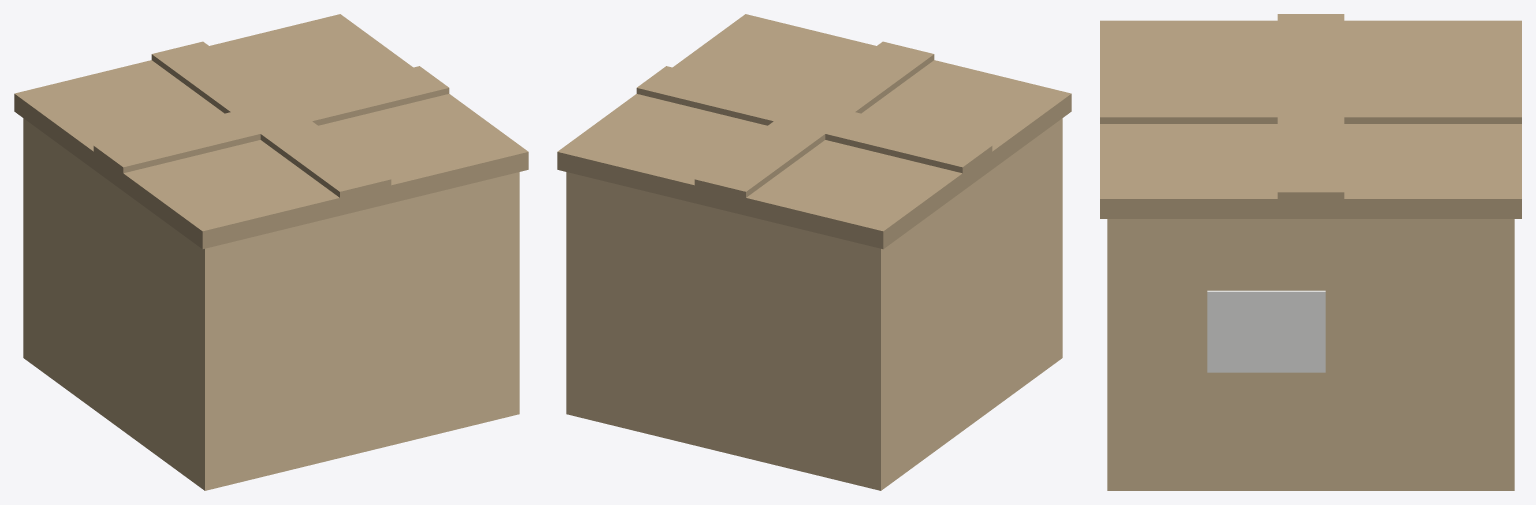
The model's file is package.glb.
3 views of the same model, side by side, from view 1: azimuth 30°, elevation 25°; view 2: azimuth 150°, elevation 25°; view 3: azimuth 270°, elevation 25° (orthographic). The views are drawn at different scales.
Visible parts, largest first — view 1: PK_box, PK_flap_a, PK_tape_x, PK_tape_y; view 2: PK_box, PK_flap_a, PK_tape_x, PK_tape_y; view 3: PK_box, PK_flap_a, PK_tape_y, PK_tape_x, PK_label.
Boxes of the visible parts, box(x1,y1,x2,y2) form: PK_box: box(23, 118, 519, 490); PK_flap_a: box(14, 14, 528, 249); PK_tape_x: box(93, 66, 449, 173); PK_tape_y: box(151, 41, 391, 203); PK_box: box(566, 118, 1062, 490); PK_flap_a: box(557, 14, 1071, 249); PK_tape_x: box(636, 66, 992, 178); PK_tape_y: box(694, 41, 934, 203); PK_box: box(1107, 219, 1514, 490); PK_flap_a: box(1100, 20, 1521, 218); PK_tape_y: box(1100, 89, 1521, 123); PK_tape_x: box(1277, 14, 1344, 205); PK_label: box(1207, 290, 1325, 372).
Bounding box in the file's own units: 0.57 × 0.45 × 0.57.
